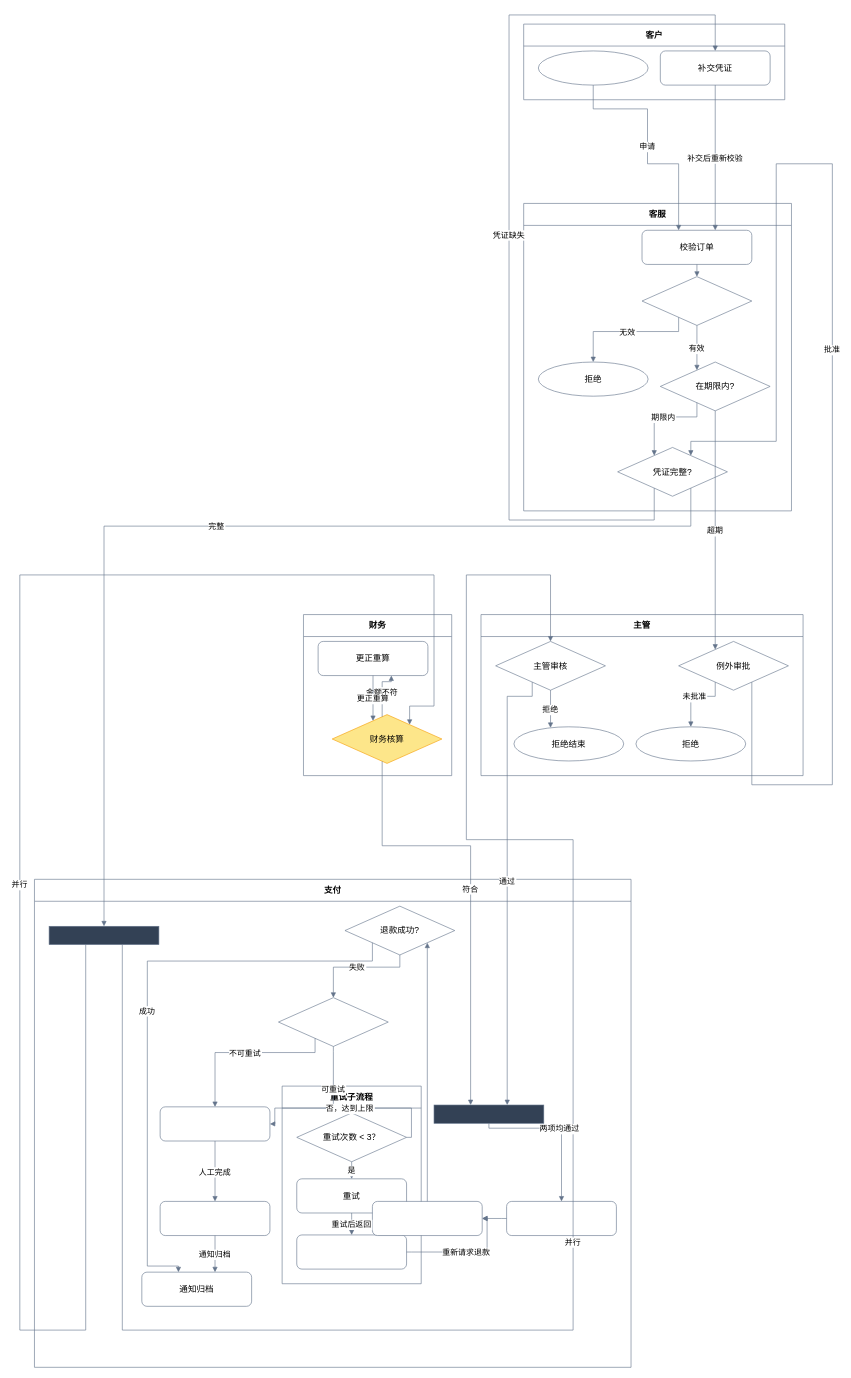
Image size: 851x1378. Some labels were removed from this diagram. The centre of each missing label's shape, as x and y in pixels:
"人工处理" goes at point 215,1123.
"可重试?" goes at point 333,1021.
"完成" goes at point 215,1218.
"并行开始" goes at point 103,935.
"并行汇合" goes at point 488,1113.
"申请退款" goes at point 593,67.
"订单有效?" goes at point 696,300.
"退款" goes at point 427,1218.
"重试次数 + 1" goes at point 351,1251.
"重试次数 = 0" goes at point 561,1218.
